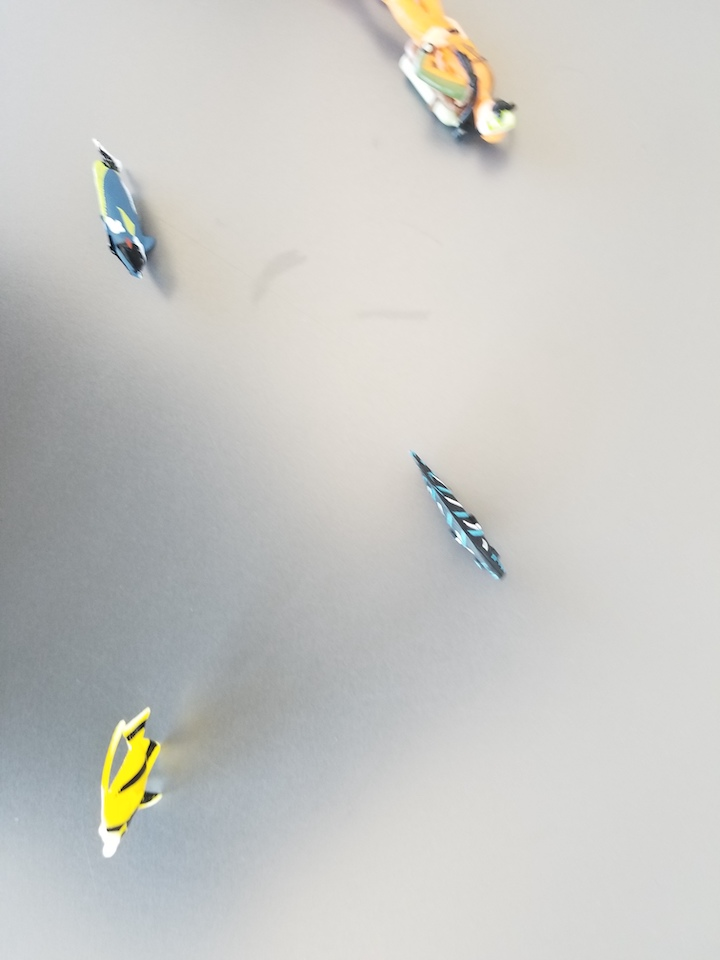danger: (95, 707, 167, 859)
diver: (381, 1, 522, 150)
fish: (410, 449, 511, 581), (92, 136, 160, 279)
